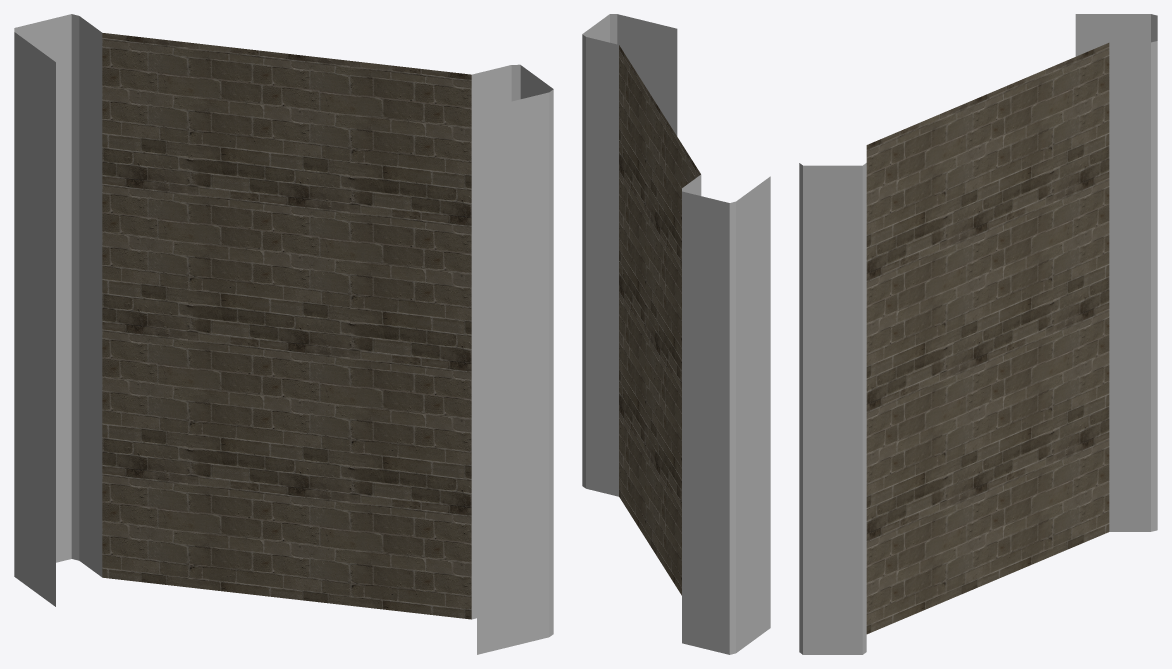
File: SM_TowerExtension_Area1.FBX
3 renders of one model, left to right at view 1: azimuth 30°, elevation 25°; view 2: azimuth 150°, elevation 25°; view 3: azimuth 270°, elevation 25°, orthographic. The views are drawn at different scales.
Parts seen in each view (by area): view 1: SM_TowerExtension_Area1; view 2: SM_TowerExtension_Area1; view 3: SM_TowerExtension_Area1.
Part boxes in pixels (bbox=[...]): SM_TowerExtension_Area1: bbox=[14, 14, 553, 654]; SM_TowerExtension_Area1: bbox=[582, 14, 770, 654]; SM_TowerExtension_Area1: bbox=[799, 14, 1157, 654].
Size of what is drawn, in the model's own units: 1700 by 1700 by 2560.
